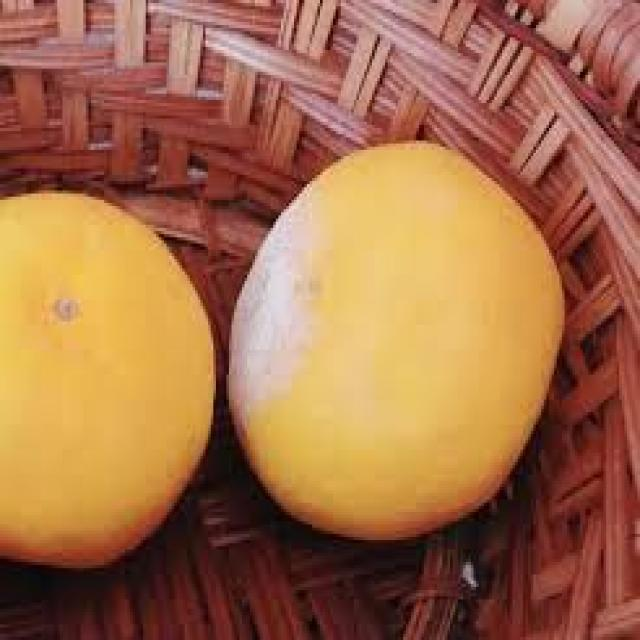organic waste: (221, 134, 565, 540), (0, 184, 211, 568)
